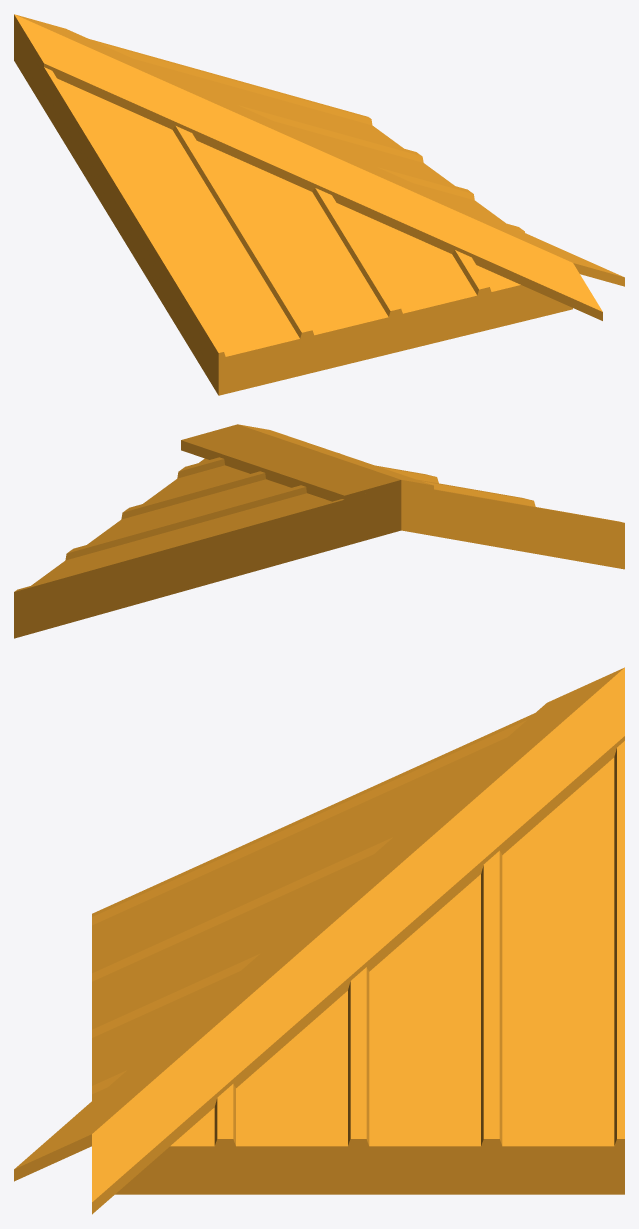
The model's file is SM_Roof_Metal_Moderate_2x2m_Corner_A.fbx.
3 renders of one model, top to bottom at view 1: azimuth 30°, elevation 25°; view 2: azimuth 150°, elevation 25°; view 3: azimuth 270°, elevation 25°, orthographic. The views are drawn at different scales.
Visible parts, largest first — view 1: roof-metal-moderate-2x2m-corner-a; view 2: roof-metal-moderate-2x2m-corner-a; view 3: roof-metal-moderate-2x2m-corner-a.
Boxes of the visible parts, x1,y1,x2,y2 form: roof-metal-moderate-2x2m-corner-a: (14,14,624,395); roof-metal-moderate-2x2m-corner-a: (14,424,624,638); roof-metal-moderate-2x2m-corner-a: (14,667,624,1214).
Bounding box in the file's own units: 2.29 × 1.25 × 2.29.
